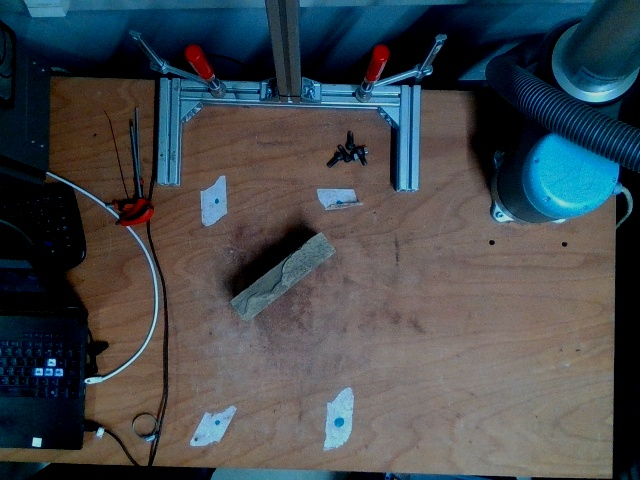brick-side: (234, 235, 334, 317)
